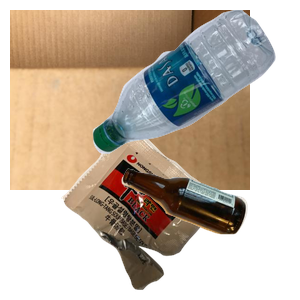cardboard: (10, 10, 250, 190)
glass: (119, 166, 300, 300)
plastic: (90, 10, 300, 156)
trash: (59, 124, 273, 300)
